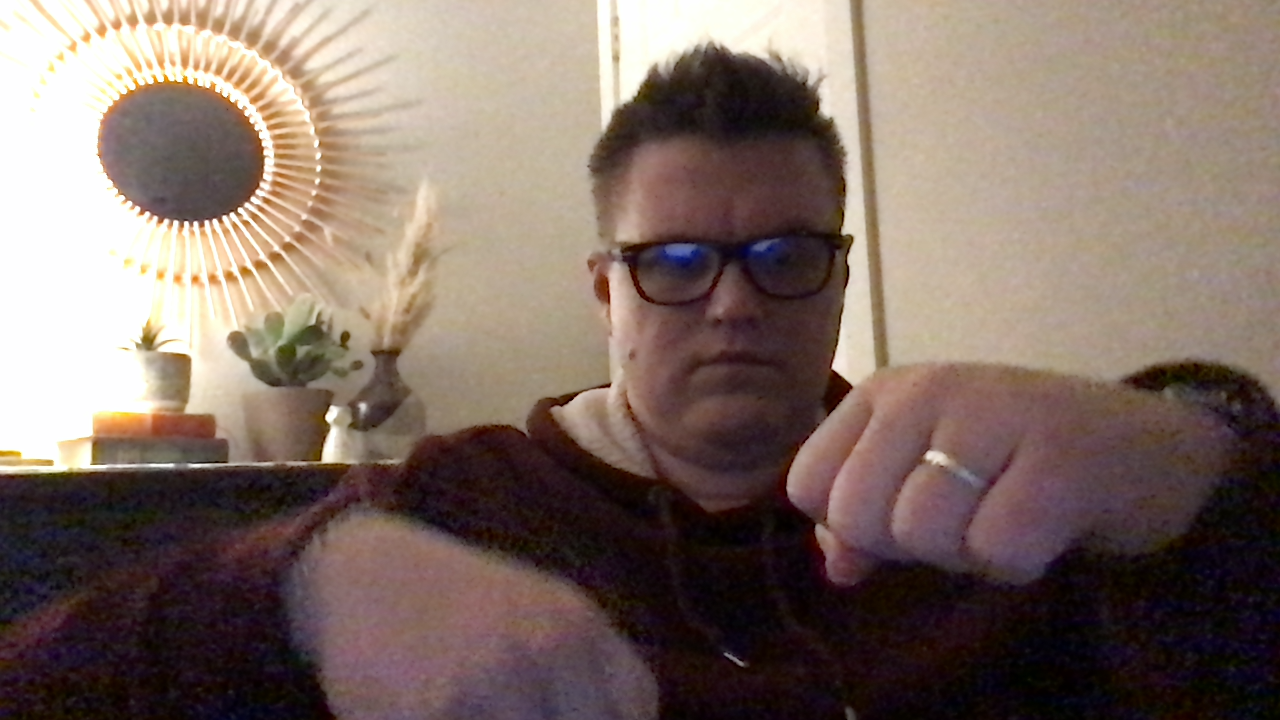yes: (788, 364, 1233, 595)
